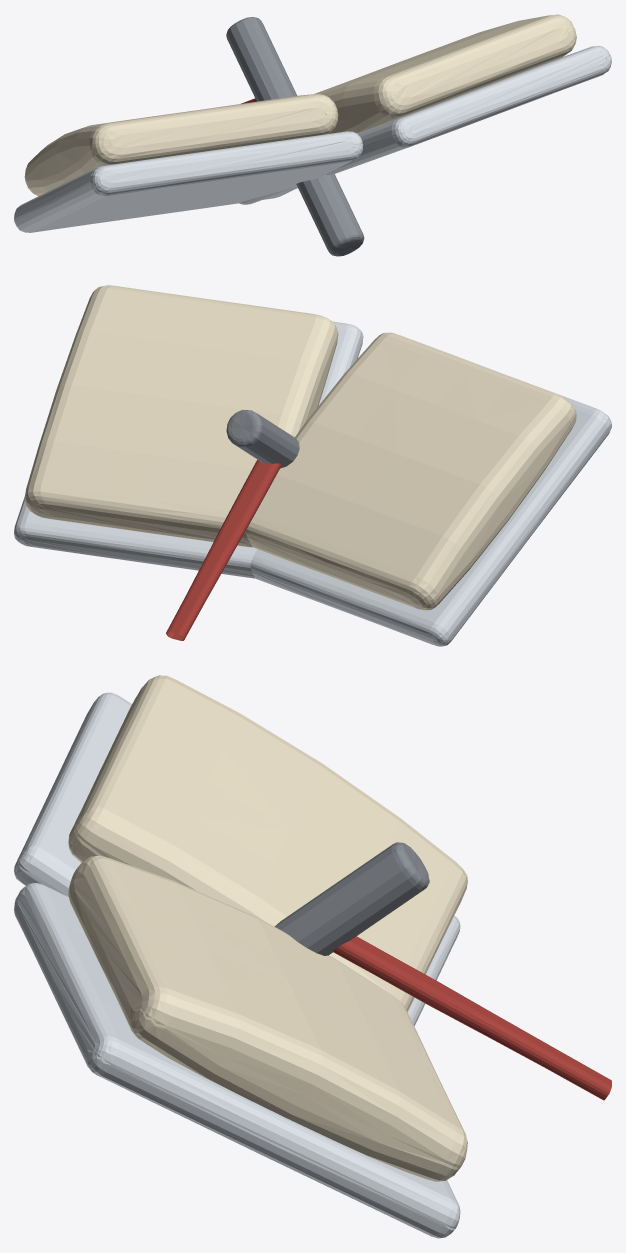
Rendered from PropTome.obj.
The picture shows the model from 3 angles, top to bottom: view 1: azimuth 30°, elevation 25°; view 2: azimuth 150°, elevation 25°; view 3: azimuth 270°, elevation 25°; orthographic projection. The views are drawn at different scales.
Bounding box in the file's own units: 1.38 × 0.471 × 0.967.
